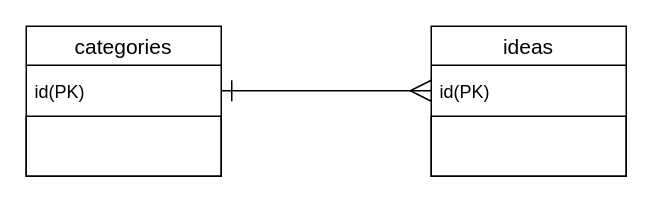
Some shapes in this 653 by 203 pixel diagram are drawn without their labels. Here are the shapes that lost their labels. From the top down, the centre of each, then its label:
At pixel 123 145: "name".
At pixel 528 145: "category_id(FK) body".
